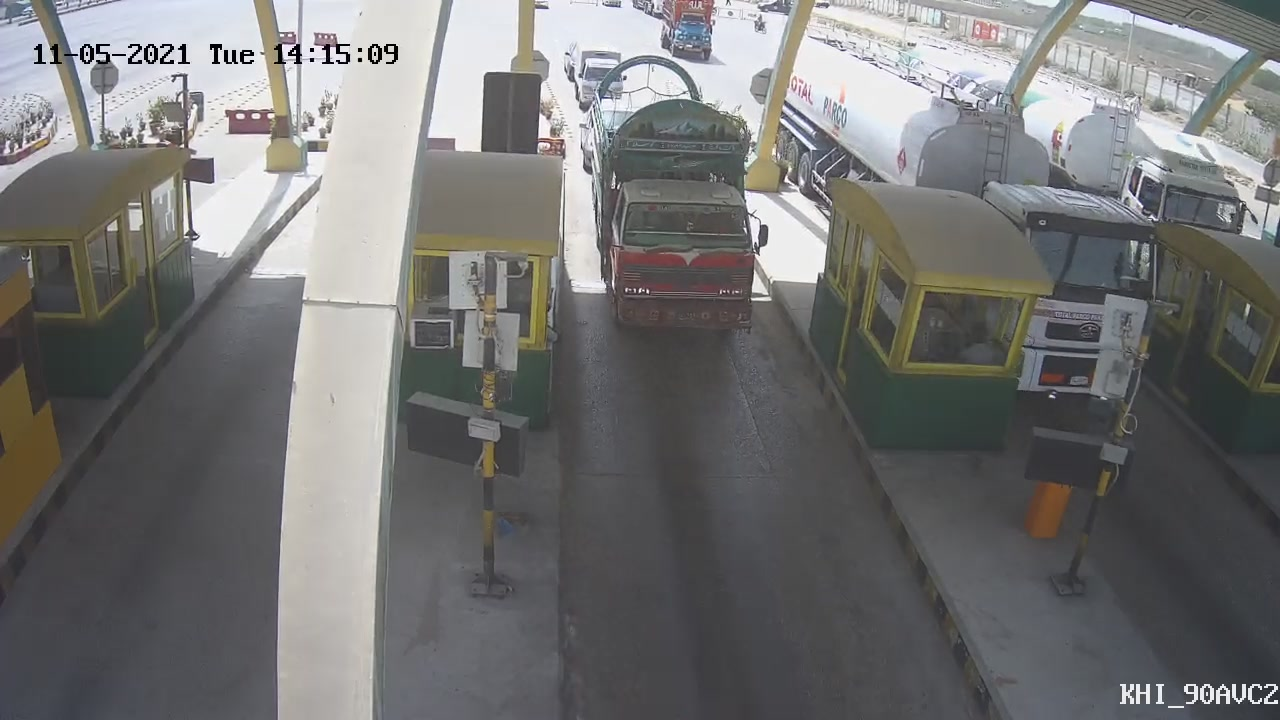F5: (584, 52, 777, 344)
